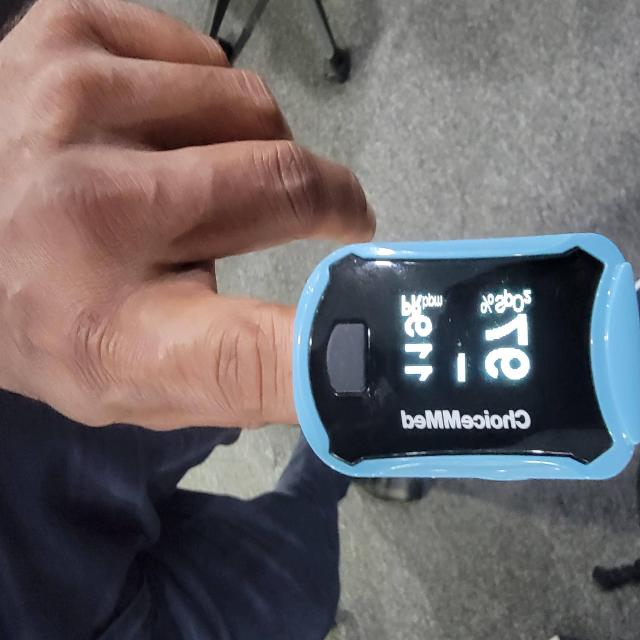spo2: (291, 233, 640, 487)
